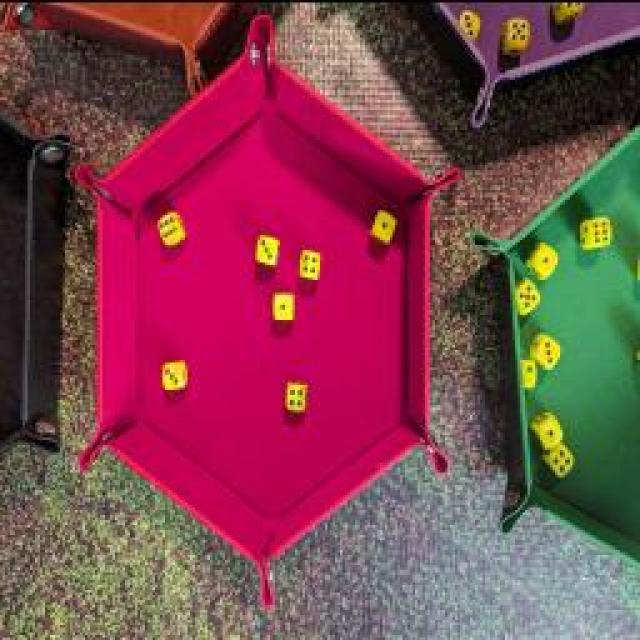dice_1: (526, 406, 564, 449), (269, 284, 299, 324), (368, 202, 398, 242), (529, 240, 559, 278)
dice_2: (519, 354, 539, 394)
dice_3: (528, 326, 562, 372), (156, 350, 192, 390), (254, 229, 284, 269), (454, 8, 484, 44)
dice_4: (295, 242, 325, 282), (282, 372, 310, 412), (548, 434, 572, 474)
dice_5: (499, 12, 529, 58), (514, 275, 538, 315)
dice_6: (156, 206, 186, 246), (580, 212, 610, 246)
